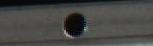holes: (62, 11, 88, 39)
